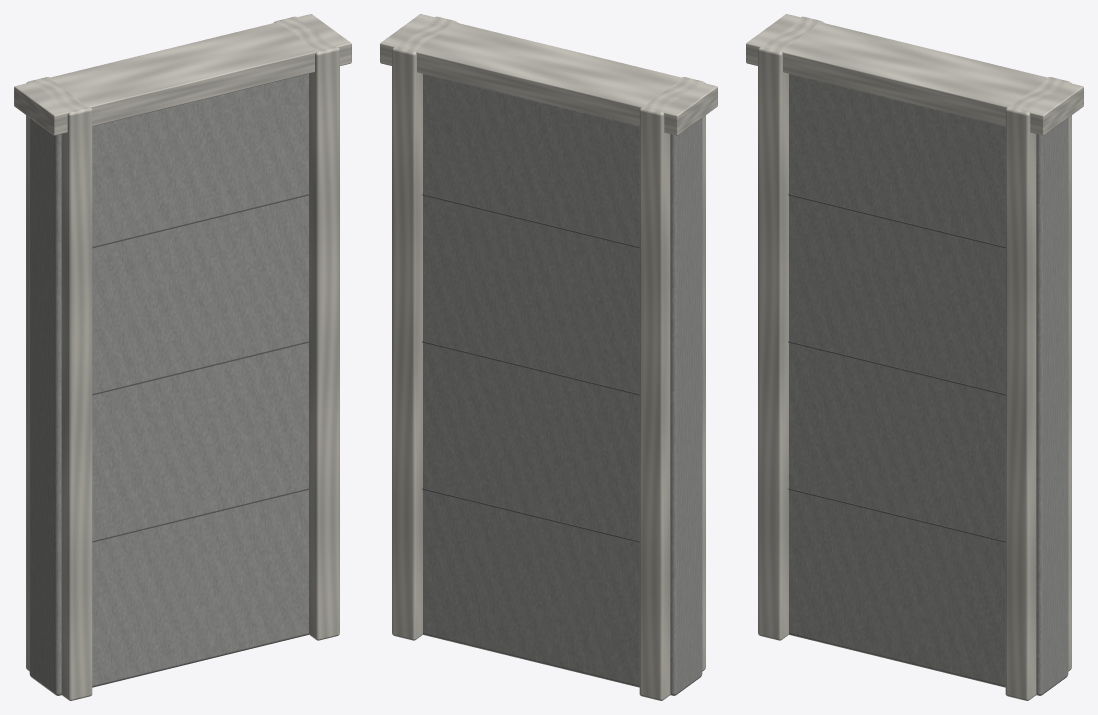
The model's file is prison-complex-builder-high-perimeter-wall-7a09adc9__25633.glb.
3 renders of one model, left to right at view 1: azimuth 30°, elevation 25°; view 2: azimuth 150°, elevation 25°; view 3: azimuth 330°, elevation 25°, orthographic.
Parts seen in each view (by area): view 1: high-perimeter-wall; view 2: high-perimeter-wall; view 3: high-perimeter-wall.
Part boxes in pixels (box(x1,y1,x2,y2)): high-perimeter-wall: box(14, 14, 351, 700); high-perimeter-wall: box(380, 14, 717, 700); high-perimeter-wall: box(746, 14, 1083, 700).
Size of the model in its own units: 2.12 by 4 by 0.5498.
Materials: 3 (2 with a texture image).
